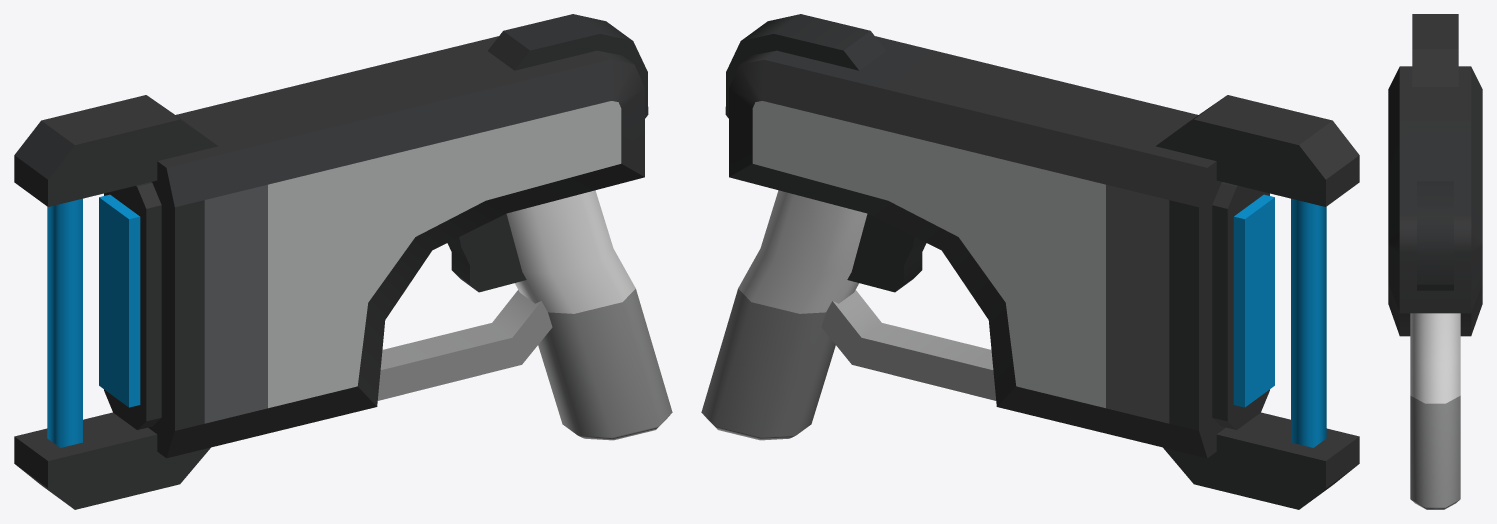
The model's file is Gun_005.fbx.
The picture shows the model from 3 angles, left to right: view 1: azimuth 30°, elevation 25°; view 2: azimuth 150°, elevation 25°; view 3: azimuth 270°, elevation 25°; orthographic projection. The views are drawn at different scales.
Visible parts, largest first — view 1: Gun_005; view 2: Gun_005; view 3: Gun_005.
Boxes of the visible parts, x1,y1,x2,y2 form: Gun_005: [14, 14, 672, 509]; Gun_005: [701, 14, 1359, 509]; Gun_005: [1388, 14, 1482, 509].
Size of the model in its own units: 43.24 by 8.11 by 27.93.
